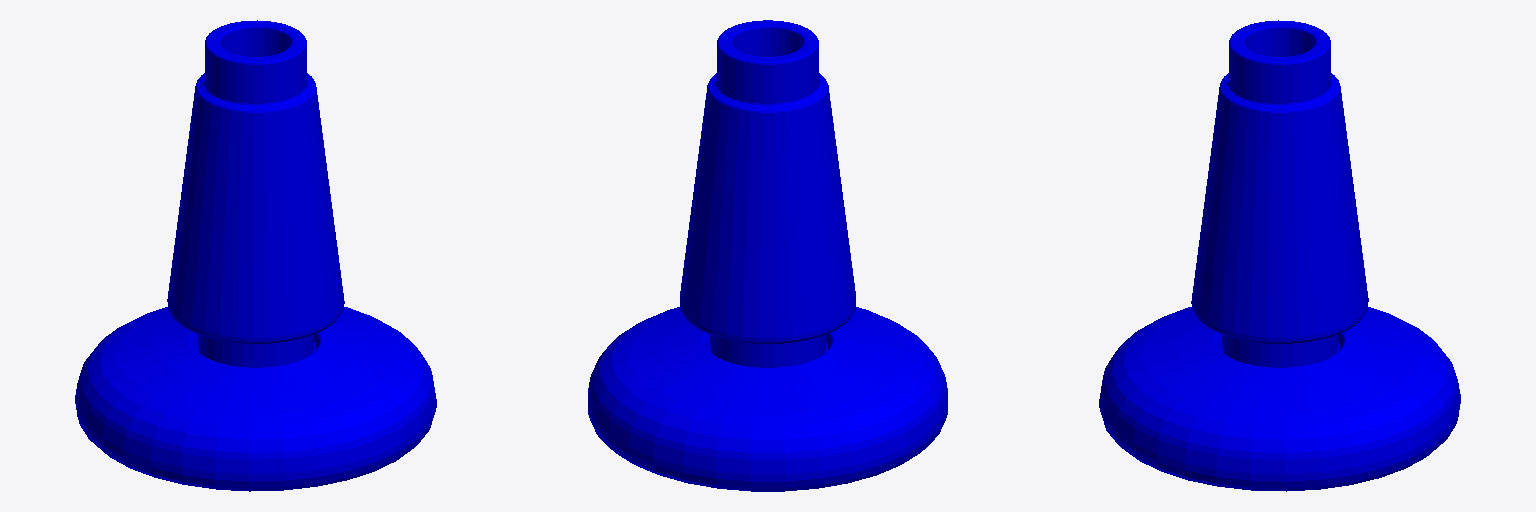
URDF robot description (corn):
<?xml version="1.0"?>
<robot name="corn">
  <link name="base">
   <contact>
      <lateral_friction value="1.0"/>
      <rolling_friction value="0.0"/>
      <contact_cfm value="0.0"/>
      <contact_erp value="1.0"/>
    </contact>
    <inertial>
      <origin rpy="0 0 0" xyz="0 0 0"/>
       <mass value="1.0"/>
       <inertia ixx="1" ixy="0" ixz="0" iyy="1" iyz="0" izz="1"/>
    </inertial>
    <visual>
      <geometry>
        <mesh filename="OBJ/corn.obj" scale="1 1 1"/>
      </geometry>
      <origin rpy="0 0 0" xyz="0 0 0" />
      <material name="blue"/>
    </visual>
    <collision>
      <origin rpy="0 0 0" xyz="0 0 0"/>
      <geometry>
         <mesh filename="OBJ/corn.obj" scale="1 1 1"/>
      </geometry>
    </collision>
  </link>

<material name="red"><color rgba="0.99 0 0 1"/></material>
<material name="orange"><color rgba="1 0.5 0 1"/></material>
<material name="yellow"><color rgba="0.95 0.95 0 1"/></material>
<material name="green"><color rgba="0 0.99 0 1"/></material>
<material name="skyblue"><color rgba="0.53 0.81 0.92 1"/></material>
<material name="blue"><color rgba="0 0 0.99 1"/></material>
<material name="purple"><color rgba="0.95 0 0.95 1"/></material>



</robot>

--- What the picture shows (computed from the rendered views, not written in the file) ---
3 views of the same robot in one strip: view 1: azimuth 30°, elevation 25°; view 2: azimuth 150°, elevation 25°; view 3: azimuth 270°, elevation 25° (orthographic).
Model corn with 1 links and 0 joints (none), rooted at base, posed every joint at zero.
Visible links, largest first — view 1: base; view 2: base; view 3: base.
Boxes of the visible links, x1,y1,x2,y2 form: base: (75,20,436,491); base: (588,20,947,491); base: (1099,20,1460,491).
Size in the robot's own frame: 0.0801 by 0.0801 by 0.0922 metres.
1 mesh visuals loaded from 1 distinct referenced files (1 OBJ).